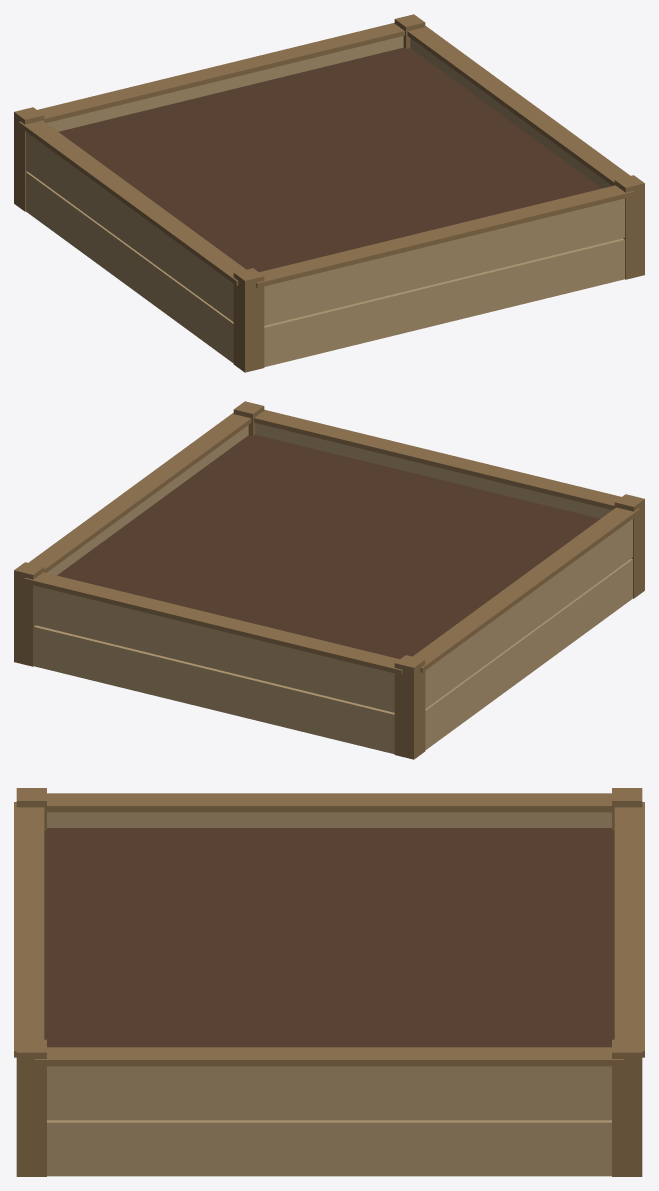
The model's file is RaisedBed_2x2.fbx.
3 views of the same model, one above another, from view 1: azimuth 30°, elevation 25°; view 2: azimuth 150°, elevation 25°; view 3: azimuth 270°, elevation 25° (orthographic). The views are drawn at different scales.
Visible parts, largest first — view 1: RaisedBed_2x2; view 2: RaisedBed_2x2; view 3: RaisedBed_2x2.
Part boxes in pixels (x1,y1,x2,y2): RaisedBed_2x2: (14, 14, 644, 372); RaisedBed_2x2: (14, 401, 644, 759); RaisedBed_2x2: (14, 788, 644, 1176).
Size of the model in its own units: 2.3 by 0.5 by 2.3.
